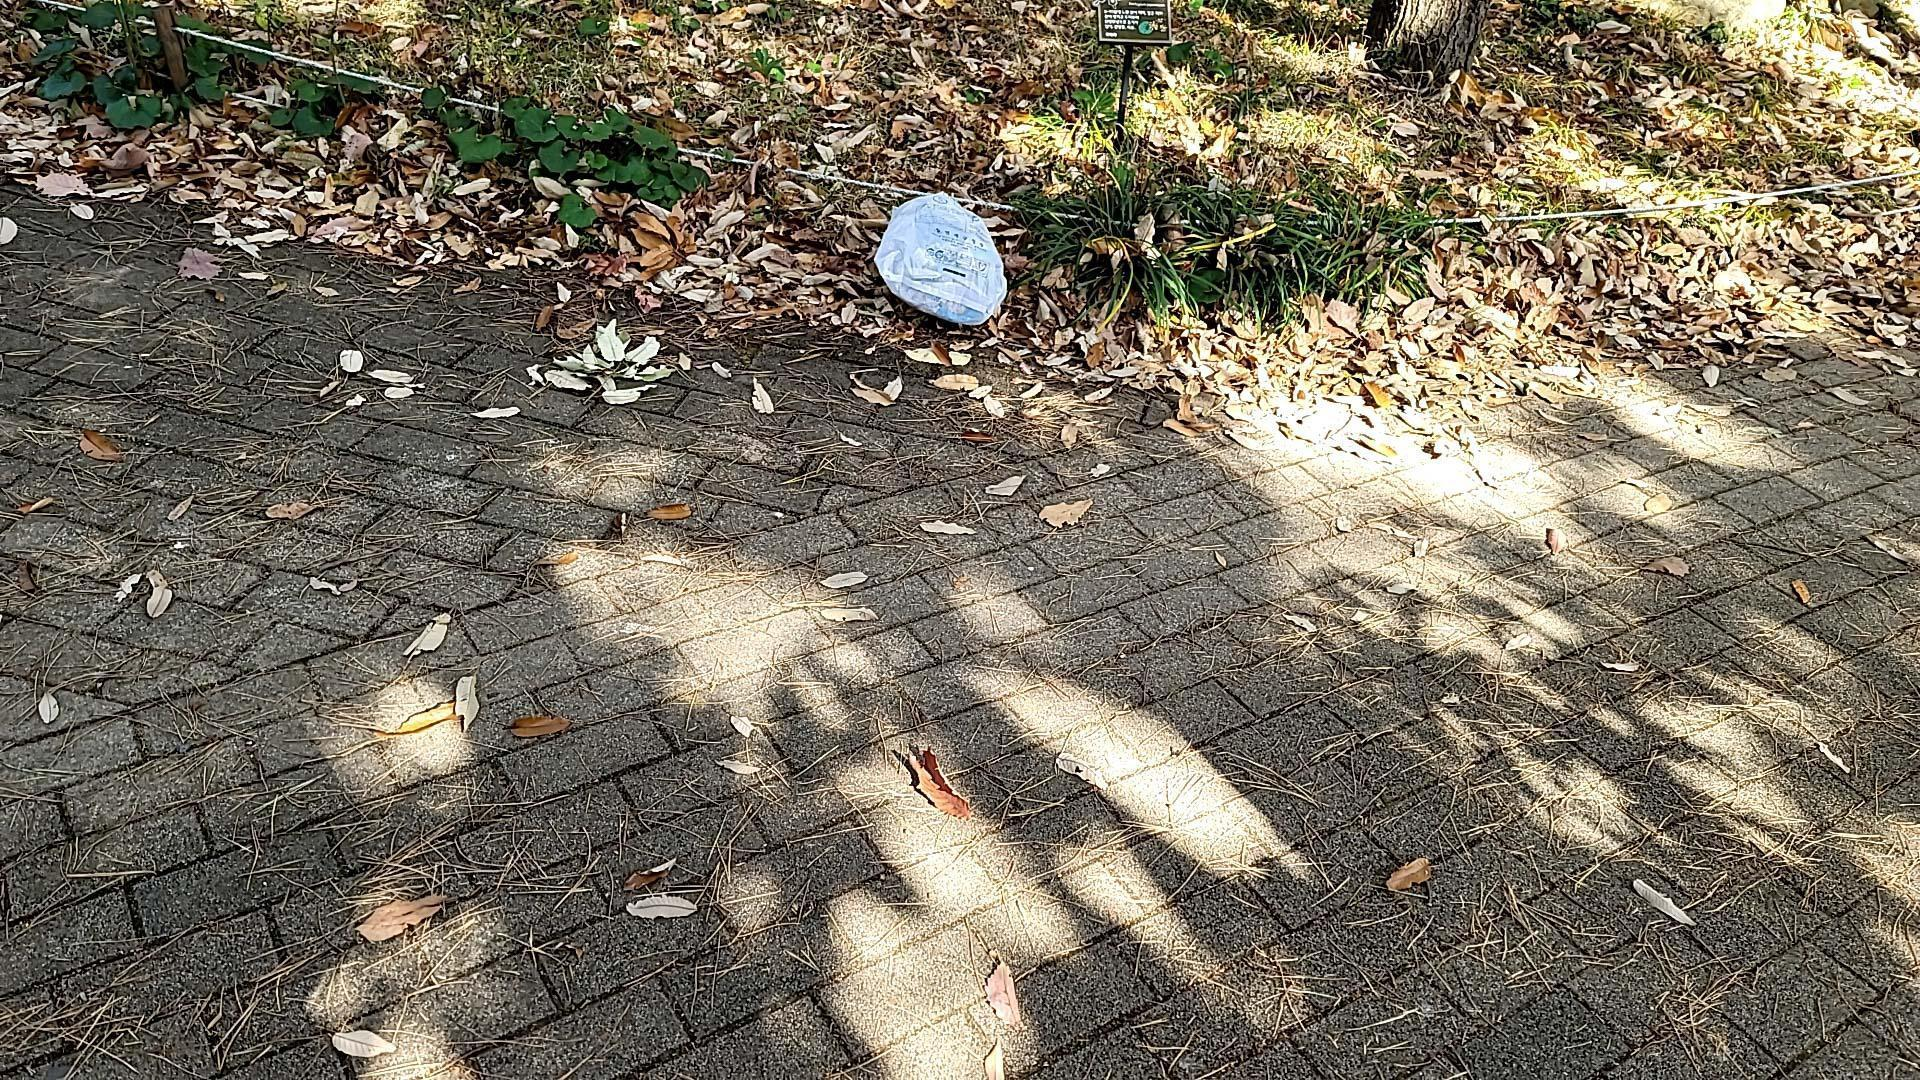white_bag: (862, 191, 1015, 338)
